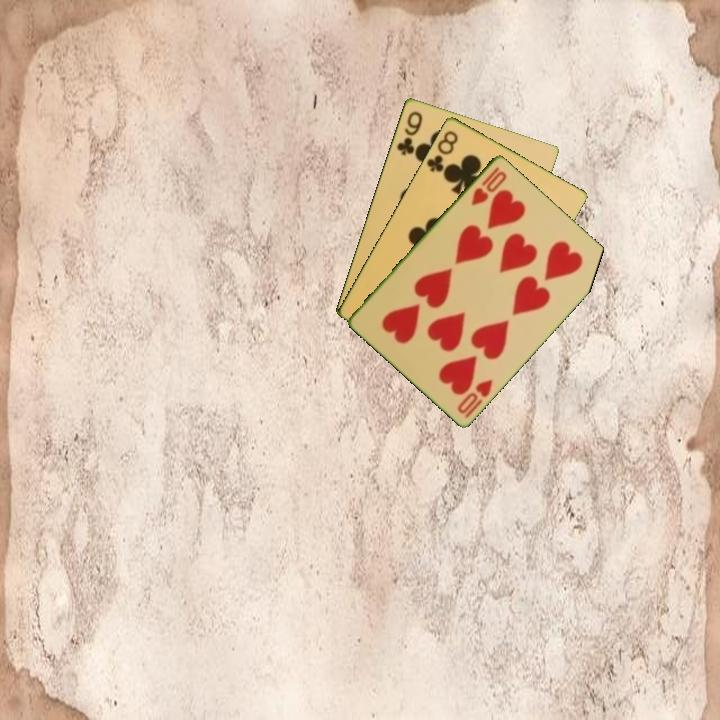10h: (468, 163, 510, 209), (454, 375, 496, 421)
8c: (423, 127, 461, 176)
9c: (393, 107, 425, 158)
